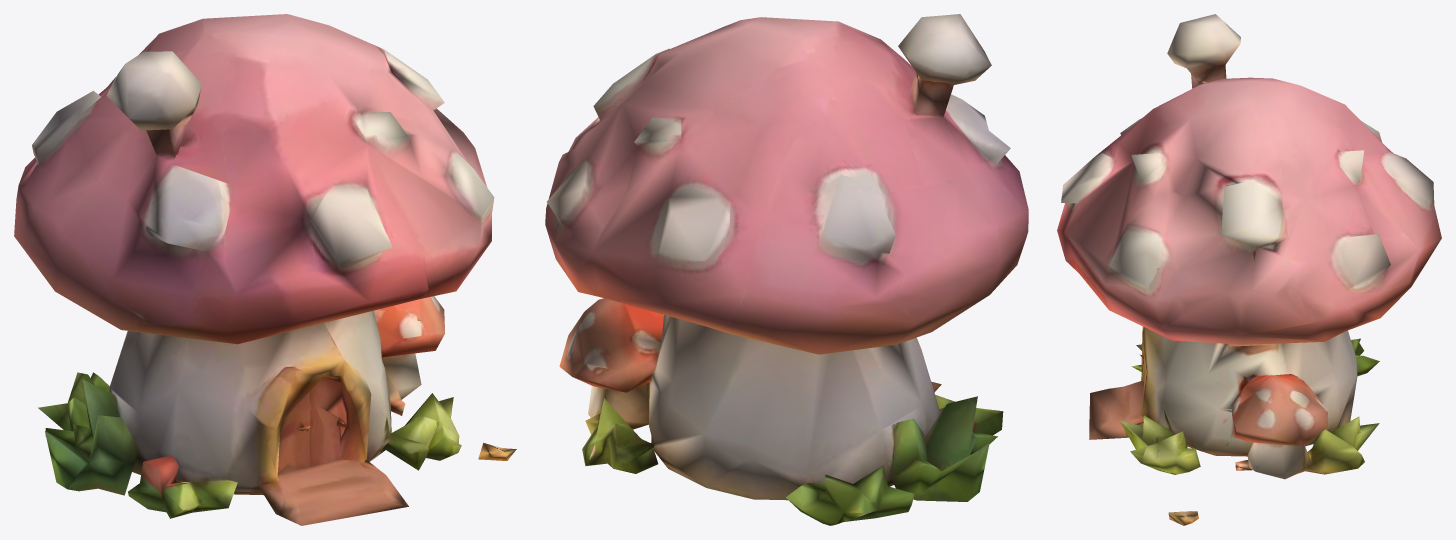
File: house_mushroom.glb
3 views of the same model, side by side, from view 1: azimuth 30°, elevation 25°; view 2: azimuth 150°, elevation 25°; view 3: azimuth 270°, elevation 25° (orthographic). The views are drawn at different scales.
Parts seen in each view (by area): view 1: tripo_node_8ab9f197-0794-40cd-82bb-10eed51306ce; view 2: tripo_node_8ab9f197-0794-40cd-82bb-10eed51306ce; view 3: tripo_node_8ab9f197-0794-40cd-82bb-10eed51306ce.
Part boxes in pixels (x1,y1,x2,y2): tripo_node_8ab9f197-0794-40cd-82bb-10eed51306ce: (14, 14, 516, 525); tripo_node_8ab9f197-0794-40cd-82bb-10eed51306ce: (545, 14, 1028, 525); tripo_node_8ab9f197-0794-40cd-82bb-10eed51306ce: (1057, 14, 1441, 525).
Size of the model in its own units: 0.9284 by 0.9729 by 0.9124.
1 material, 1 textured.
